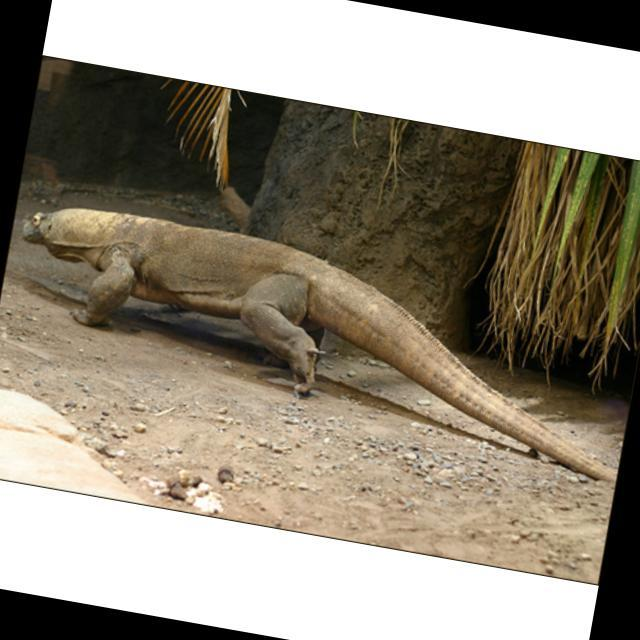KomodoDragon: (0, 194, 640, 483)
